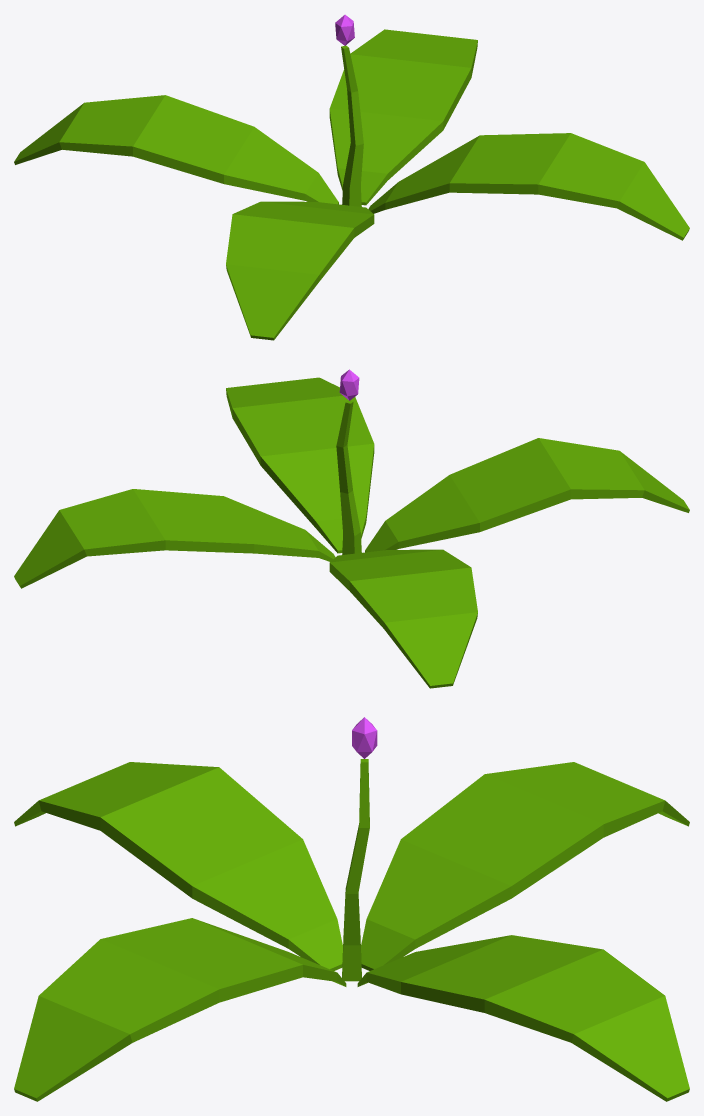
Rendered from plant_2.gltf.
3 views of the same model, one above another, from view 1: azimuth 30°, elevation 25°; view 2: azimuth 150°, elevation 25°; view 3: azimuth 270°, elevation 25° (orthographic). The views are drawn at different scales.
Parts seen in each view (by area): view 1: Plant_2; view 2: Plant_2; view 3: Plant_2.
Part boxes in pixels (<box>): Plant_2: <box>14,14,689,340</box>; Plant_2: <box>14,369,689,688</box>; Plant_2: <box>14,717,689,1101</box>.
Size of the model in its own units: 1.37 by 0.5775 by 1.37.
